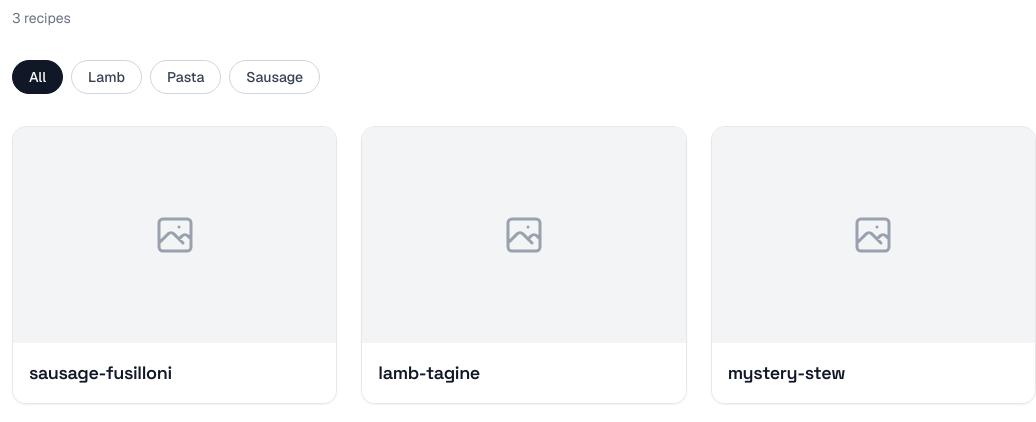
Test: CategoryRecipeGrid › filters to recipes carrying the selected tag and updates the count
The width and height of the screenshot is (1036, 422).
Click the button "sausage": point(275, 77) [229,60,320,94]
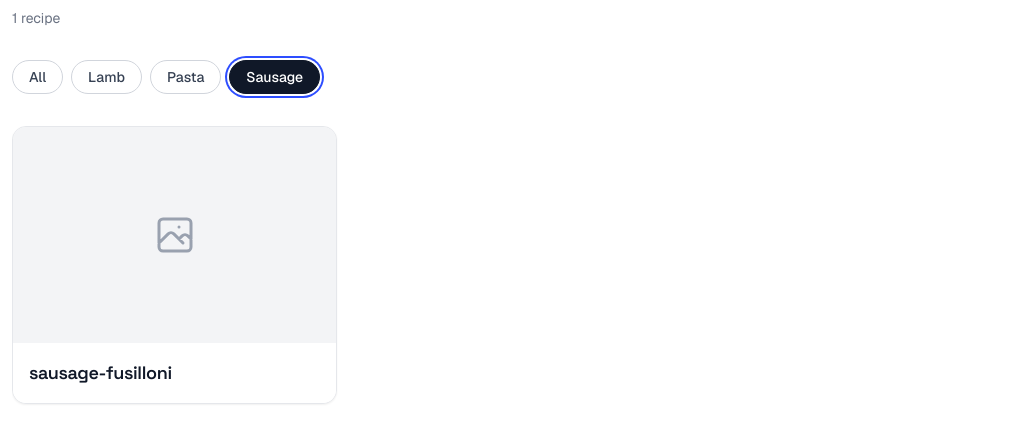
Expected: the link "lamb-tagine" is gone
Expected: the link "mystery-stew" is gone
Expected: the text "1 recipe" is shown, [12,9,60,27]
